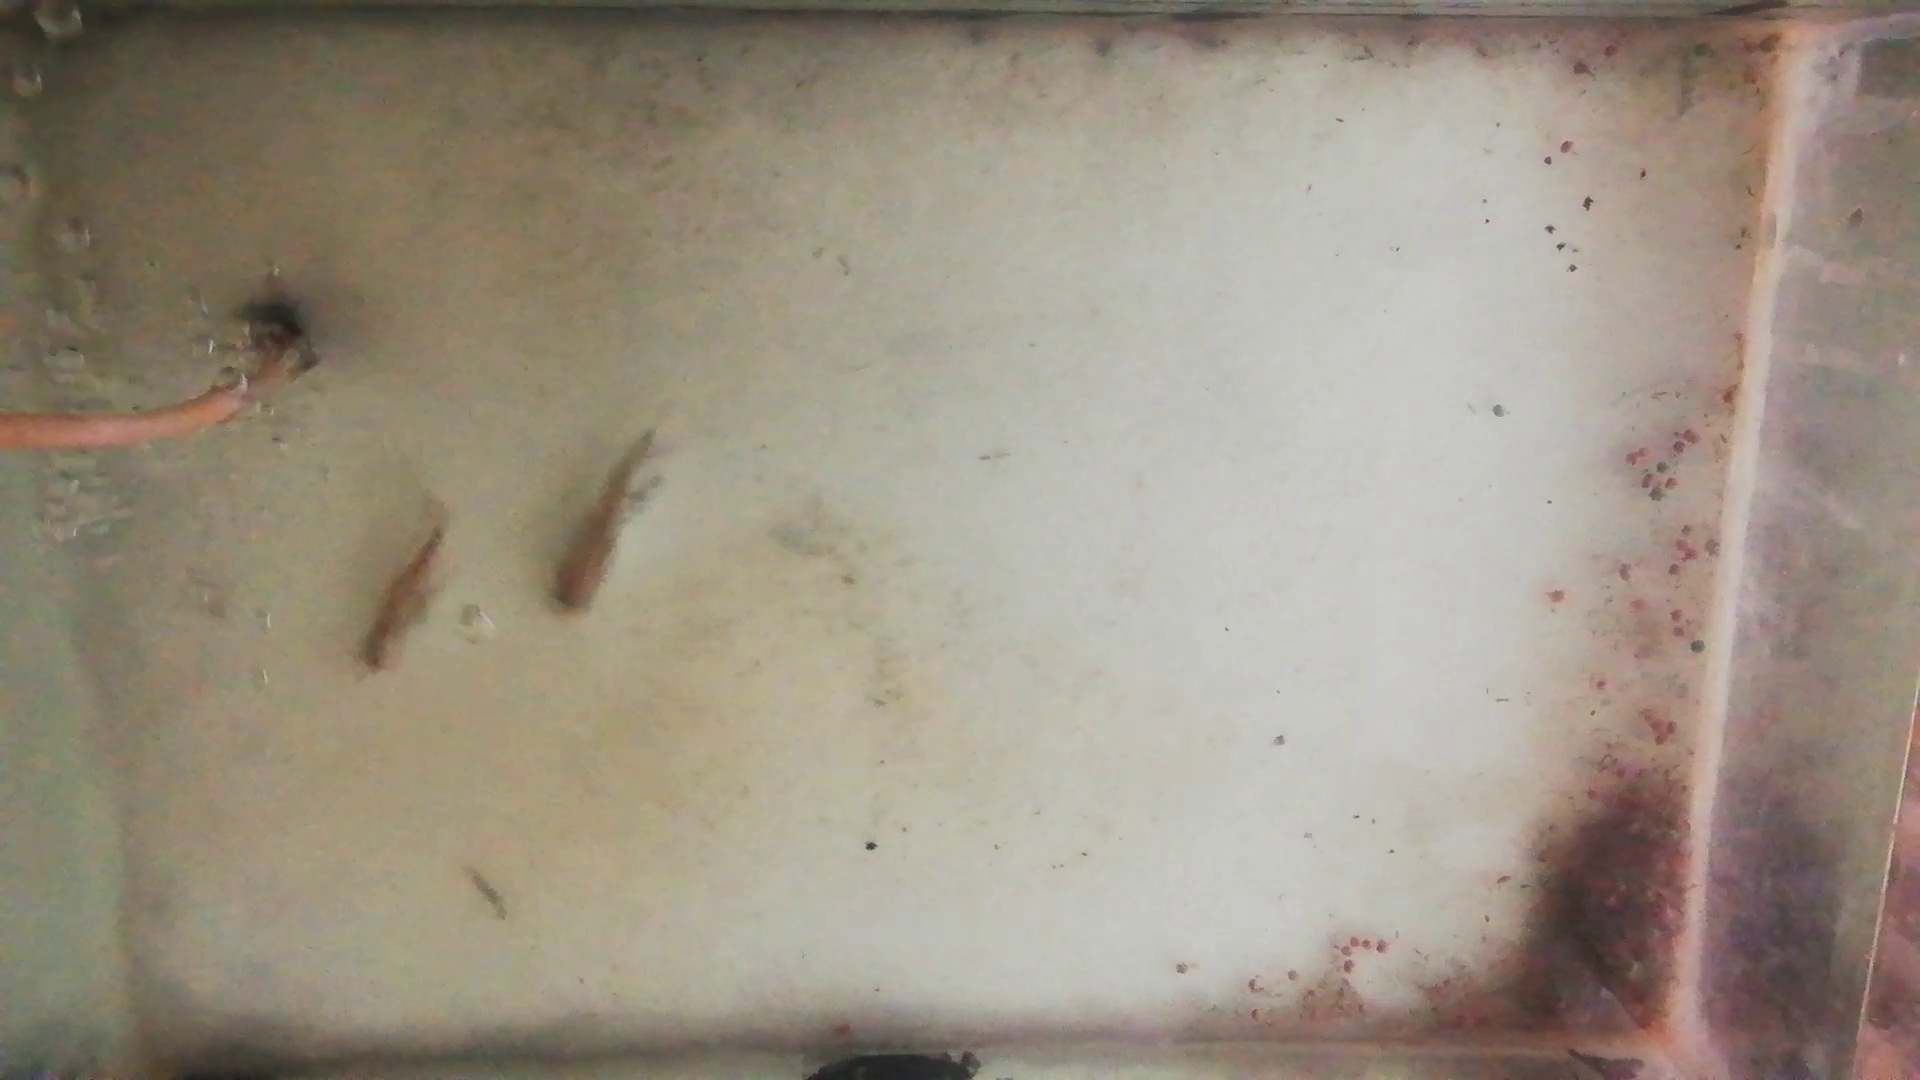fish: (541, 426, 655, 618), (351, 516, 452, 675)
